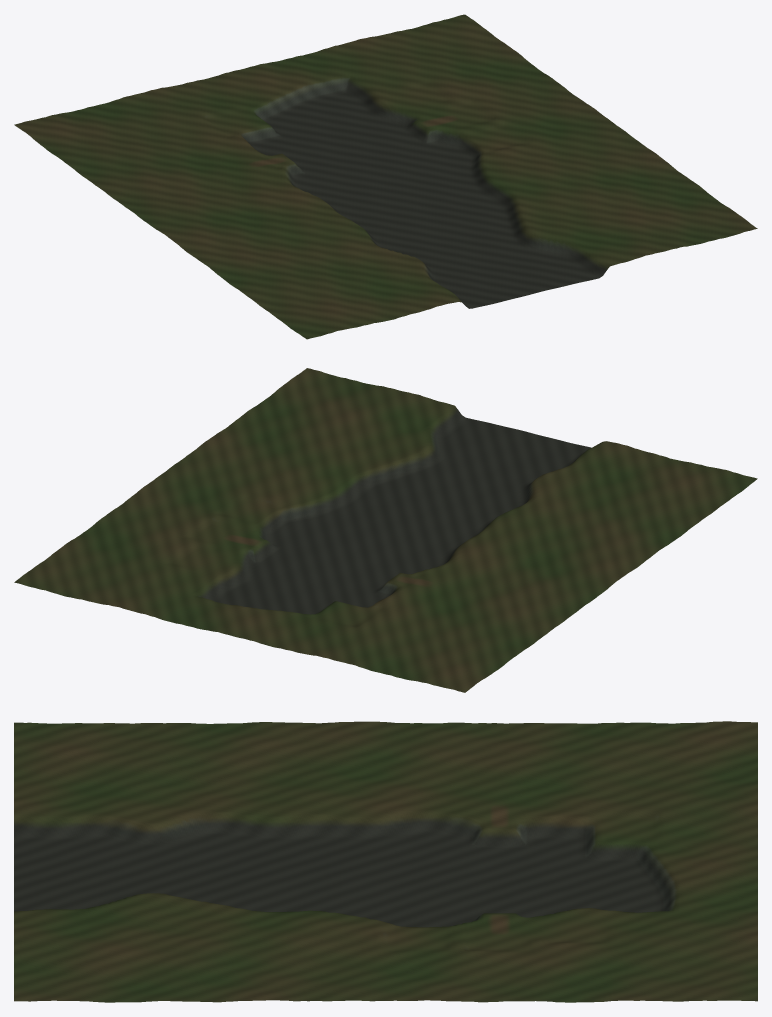
File: terrain_lod0.glb
3 views of the same model, one above another, from view 1: azimuth 30°, elevation 25°; view 2: azimuth 150°, elevation 25°; view 3: azimuth 270°, elevation 25° (orthographic). The views are drawn at different scales.
Parts seen in each view (by area): view 1: terrain_L0__ground; view 2: terrain_L0__ground; view 3: terrain_L0__ground.
Part boxes in pixels (left/top/right/bottom): terrain_L0__ground: left=14, top=14, right=757, bottom=339; terrain_L0__ground: left=14, top=368, right=757, bottom=692; terrain_L0__ground: left=14, top=721, right=757, bottom=1002.
Size of the model in its own units: 64 by 1.61 by 72.
1 material, 1 textured.
